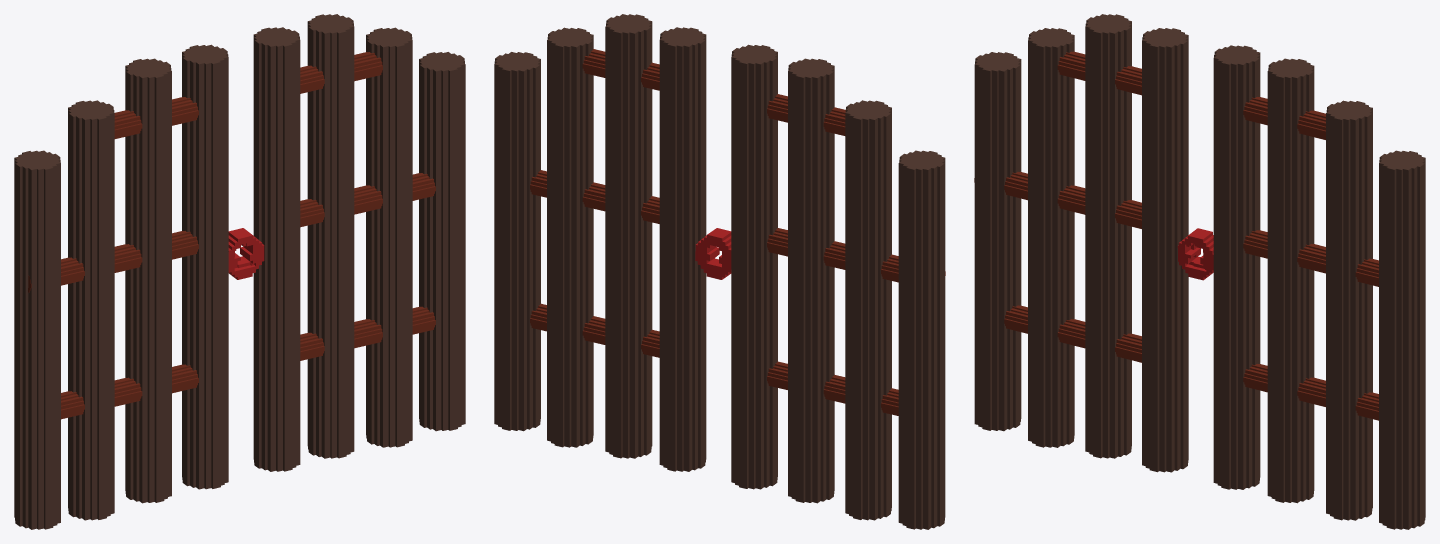
The model's file is GateLarge.glb.
3 renders of one model, left to right at view 1: azimuth 30°, elevation 25°; view 2: azimuth 150°, elevation 25°; view 3: azimuth 330°, elevation 25°, orthographic.
Visible parts, largest first — view 1: Cylinder.001, Cylinder.002, Cylinder, Cylinder.003, Cylinder.004, Cylinder.005, Cylinder.007, Cylinder.006, Cylinder.011, Cylinder.008, Cylinder.009, Cylinder.010 (+3 smaller); view 2: Cylinder.001, Cylinder.002, Cylinder, Cylinder.003, Cylinder.004, Cylinder.005, Cylinder.007, Cylinder.006, Cylinder.014, Cylinder.011, Cylinder.008, Cylinder.010 (+3 smaller); view 3: Cylinder, Cylinder.002, Cylinder.001, Cylinder.003, Cylinder.005, Cylinder.004, Cylinder.006, Cylinder.007, Cylinder.008, Cylinder.011, Cylinder.010, Cylinder.009 (+3 smaller).
Boxes of the visible parts, left/top/right/bottom form: Cylinder.001: left=253, top=27, right=300, bottom=471; Cylinder.002: left=307, top=14, right=354, bottom=458; Cylinder: left=182, top=44, right=228, bottom=489; Cylinder.003: left=125, top=58, right=171, bottom=503; Cylinder.004: left=68, top=100, right=114, bottom=520; Cylinder.005: left=366, top=27, right=412, bottom=447; Cylinder.007: left=14, top=150, right=60, bottom=529; Cylinder.006: left=419, top=52, right=465, bottom=431; Cylinder.011: left=28, top=231, right=198, bottom=292; Cylinder.008: left=61, top=364, right=198, bottom=419; Cylinder.009: left=300, top=306, right=435, bottom=360; Cylinder.010: left=300, top=173, right=435, bottom=227; Cylinder.001: left=659, top=27, right=706, bottom=471; Cylinder.002: left=605, top=14, right=652, bottom=458; Cylinder: left=731, top=44, right=777, bottom=489; Cylinder.003: left=788, top=58, right=834, bottom=503; Cylinder.004: left=845, top=100, right=891, bottom=520; Cylinder.005: left=547, top=27, right=593, bottom=447; Cylinder.007: left=898, top=150, right=945, bottom=529; Cylinder.006: left=494, top=52, right=540, bottom=431; Cylinder.014: left=695, top=228, right=731, bottom=279; Cylinder.011: left=767, top=228, right=945, bottom=282; Cylinder.008: left=767, top=361, right=898, bottom=415; Cylinder.010: left=530, top=170, right=659, bottom=223; Cylinder: left=1142, top=28, right=1188, bottom=472; Cylinder.002: left=1267, top=58, right=1314, bottom=503; Cylinder.001: left=1213, top=45, right=1260, bottom=489; Cylinder.003: left=1085, top=14, right=1131, bottom=458; Cylinder.005: left=1326, top=100, right=1372, bottom=520; Cylinder.004: left=1028, top=28, right=1074, bottom=447; Cylinder.006: left=1379, top=150, right=1425, bottom=529; Cylinder.007: left=974, top=52, right=1021, bottom=431; Cylinder.008: left=1004, top=305, right=1141, bottom=362; Cylinder.011: left=974, top=172, right=1141, bottom=228; Cylinder.010: left=1243, top=230, right=1378, bottom=286; Cylinder.009: left=1243, top=364, right=1378, bottom=420.
Bounding box in the file's own units: 22.95 × 21.12 × 2.08.
